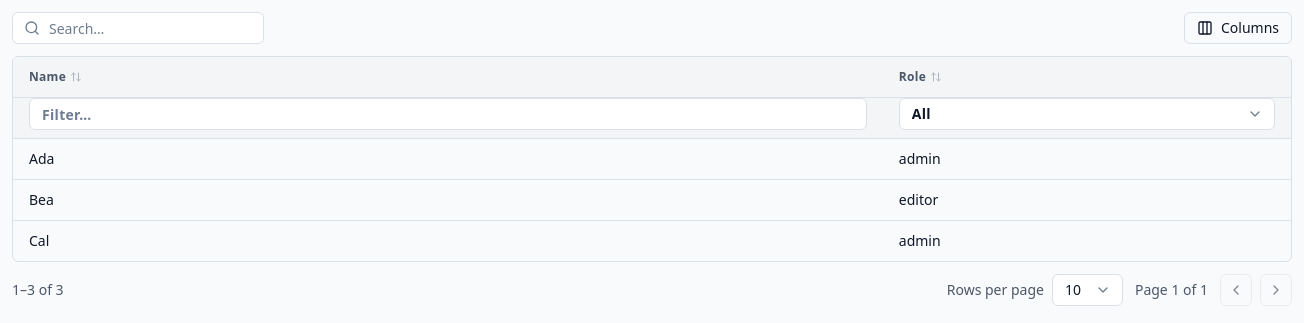
Test: DataTable › faceted filters › select filter narrows rows
The width and height of the screenshot is (1304, 323).
Select "Editor" in the dropdown named "Filter Role": (1087, 114) [899,98,1275,130]
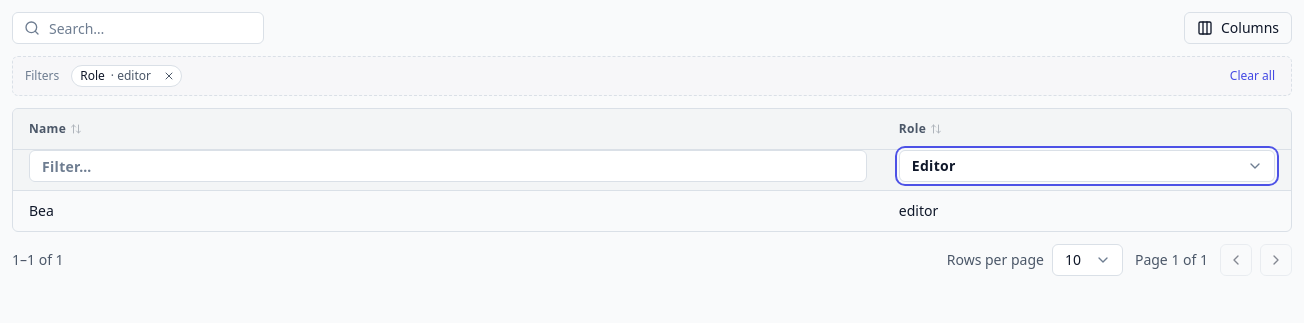
Expected: the text "Bea" is shown, [13,190,883,231]
Now the text "Ada" is gone
Now the text "Cal" is gone
